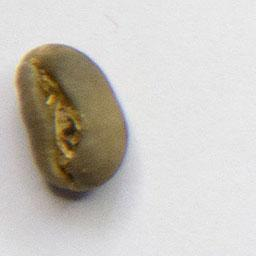peaberry: (14, 40, 132, 197)
